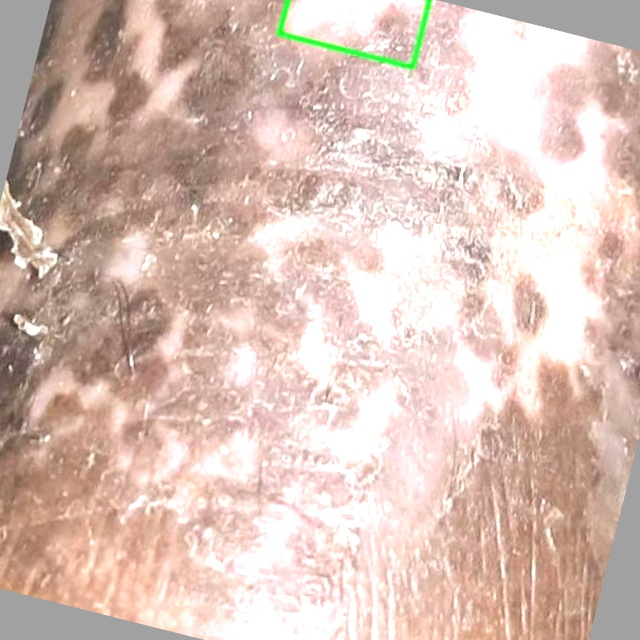Eczema: (279, 0, 429, 67)
